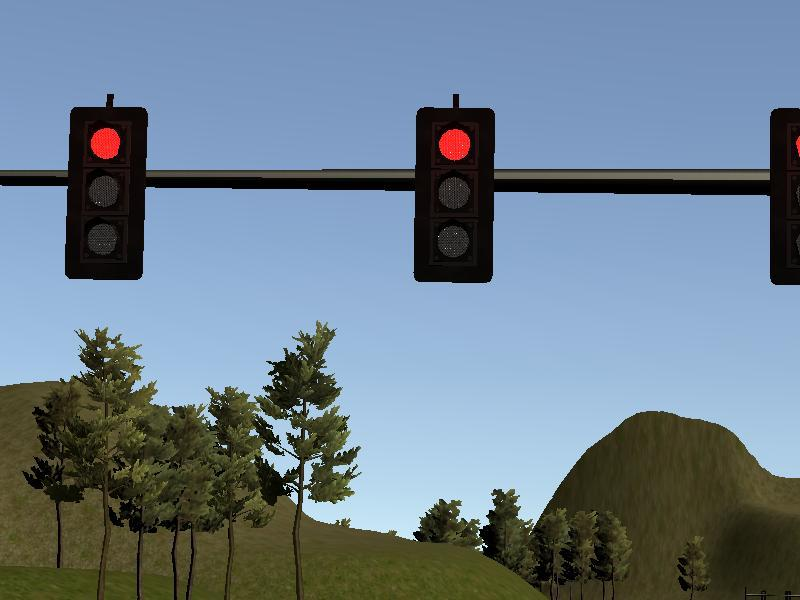Red: (419, 113, 491, 280), (71, 108, 142, 277)
